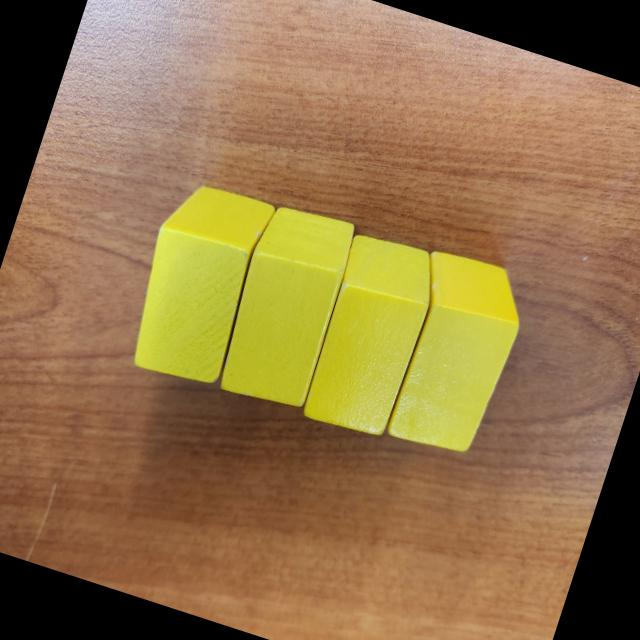yellow: (370, 244, 536, 465), (115, 175, 278, 396), (294, 228, 446, 447), (210, 198, 362, 414)
